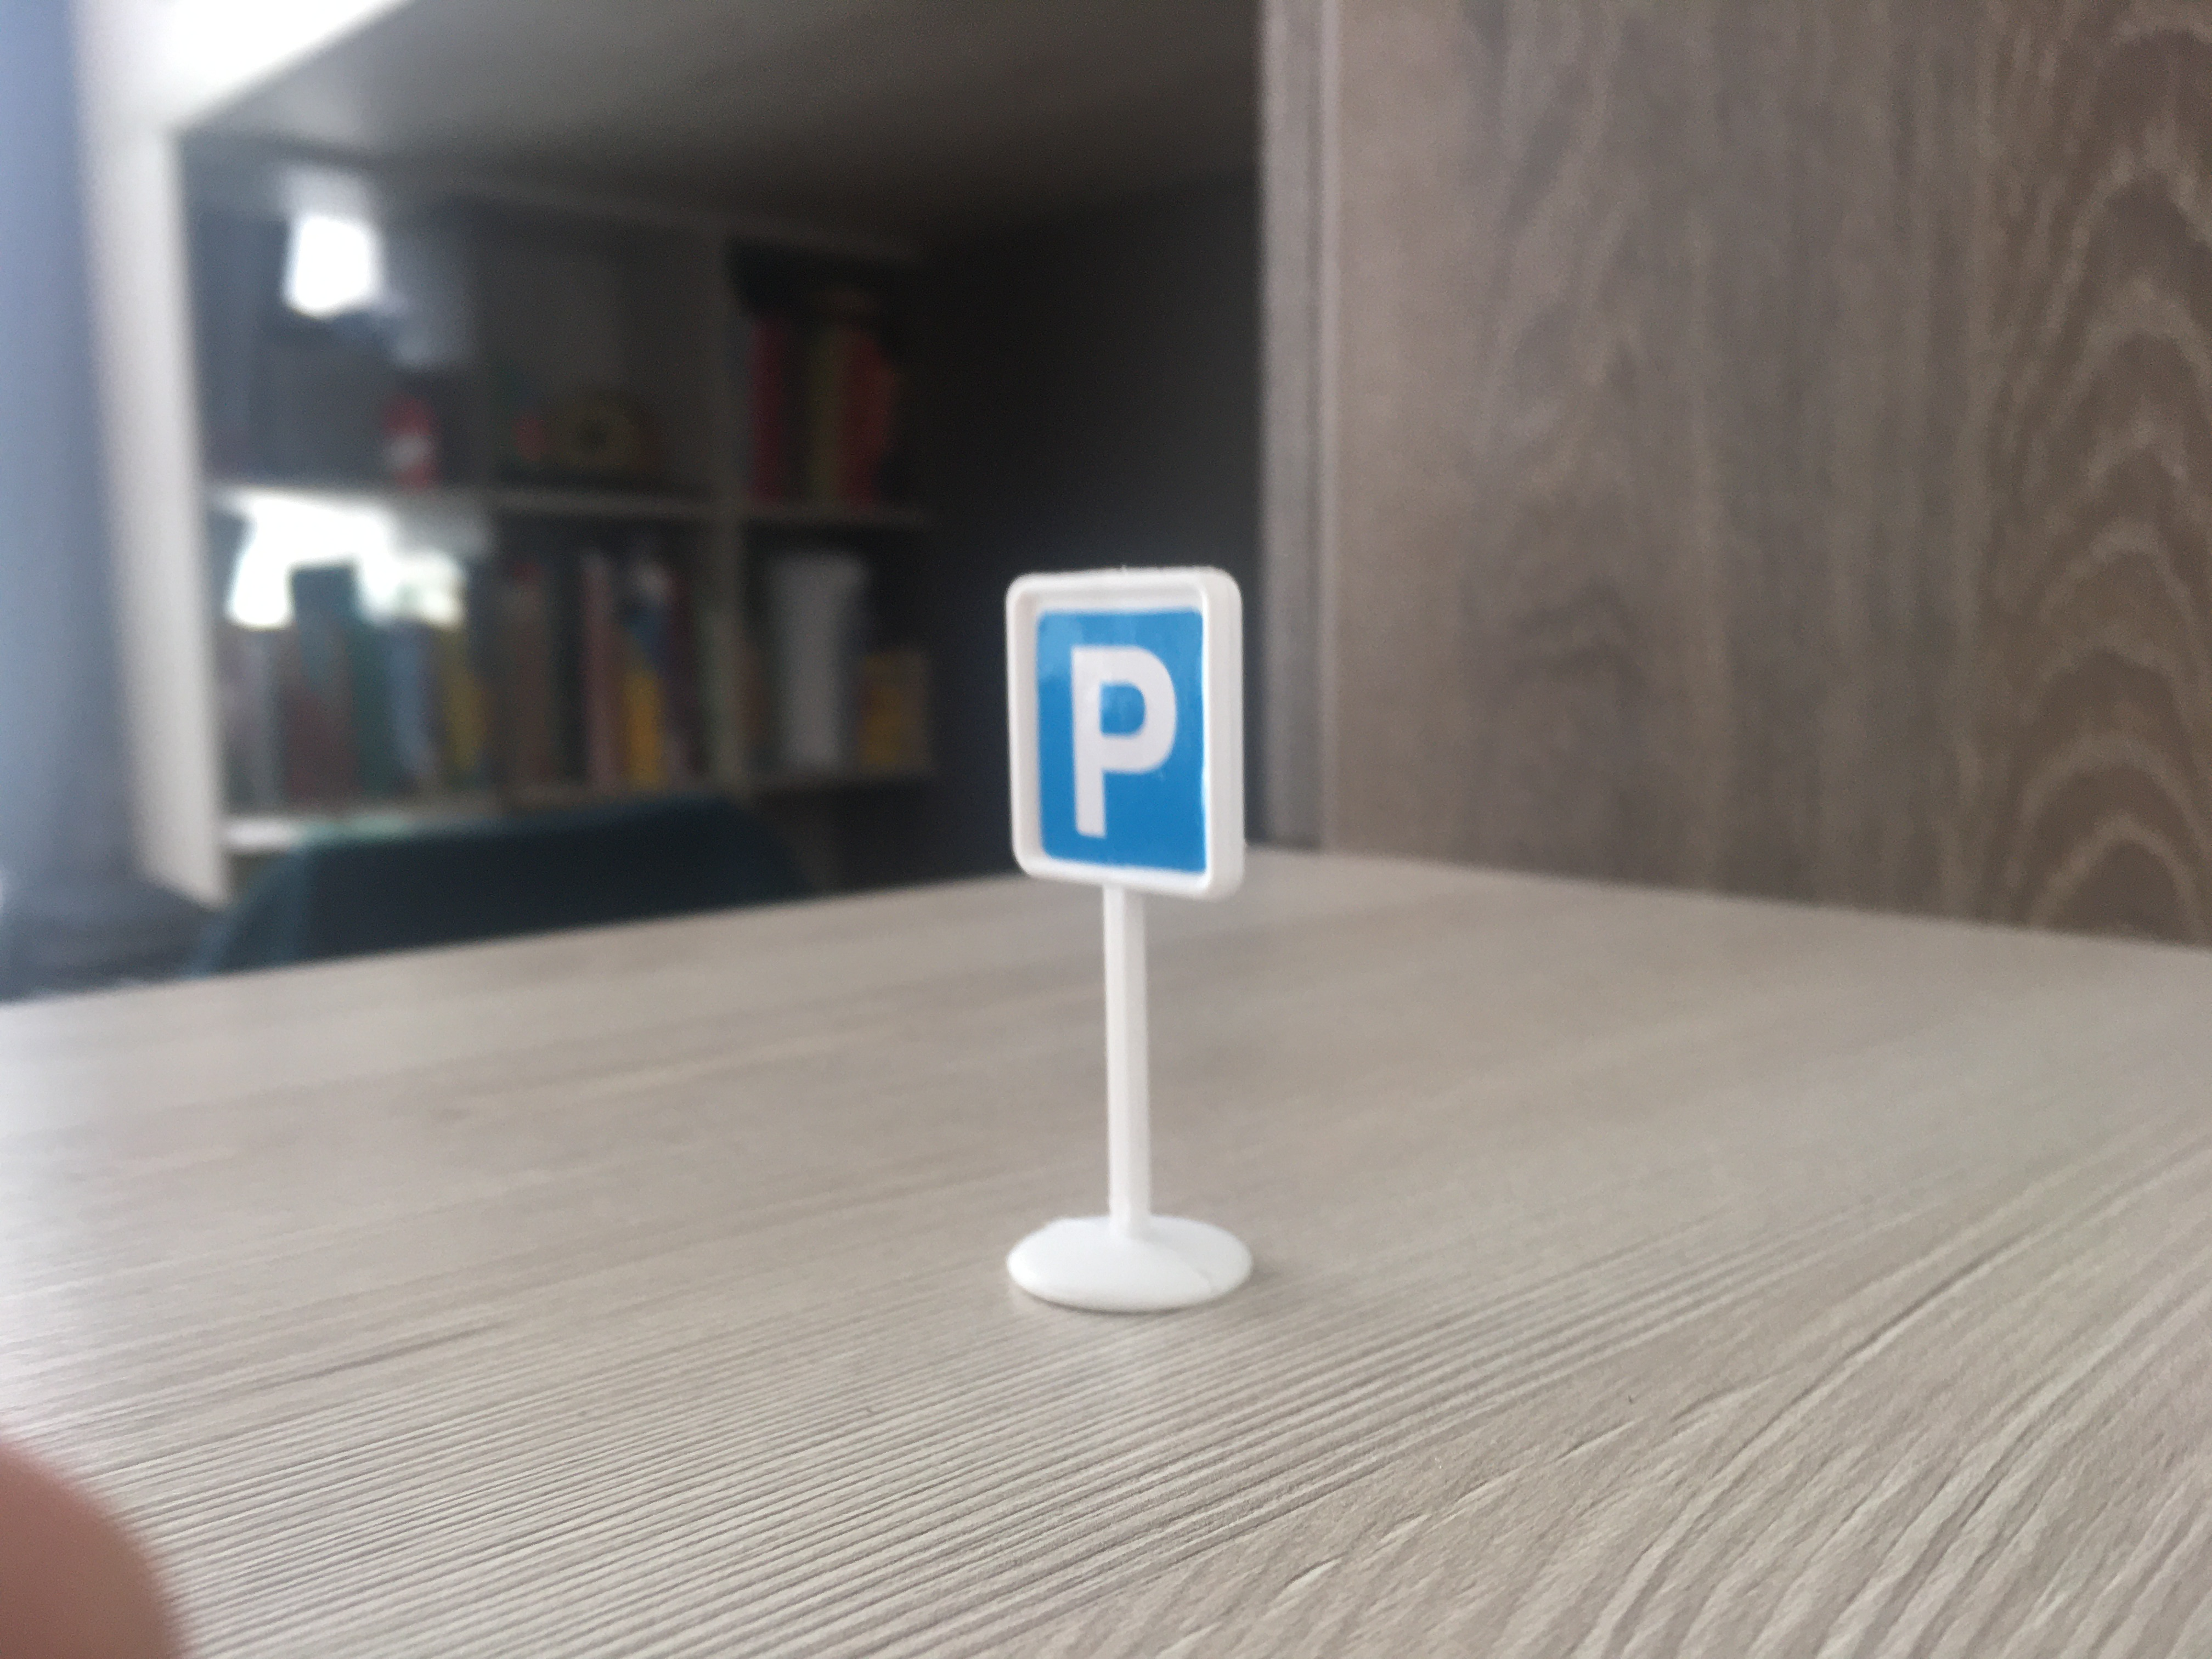parking: (995, 566, 1249, 908)
